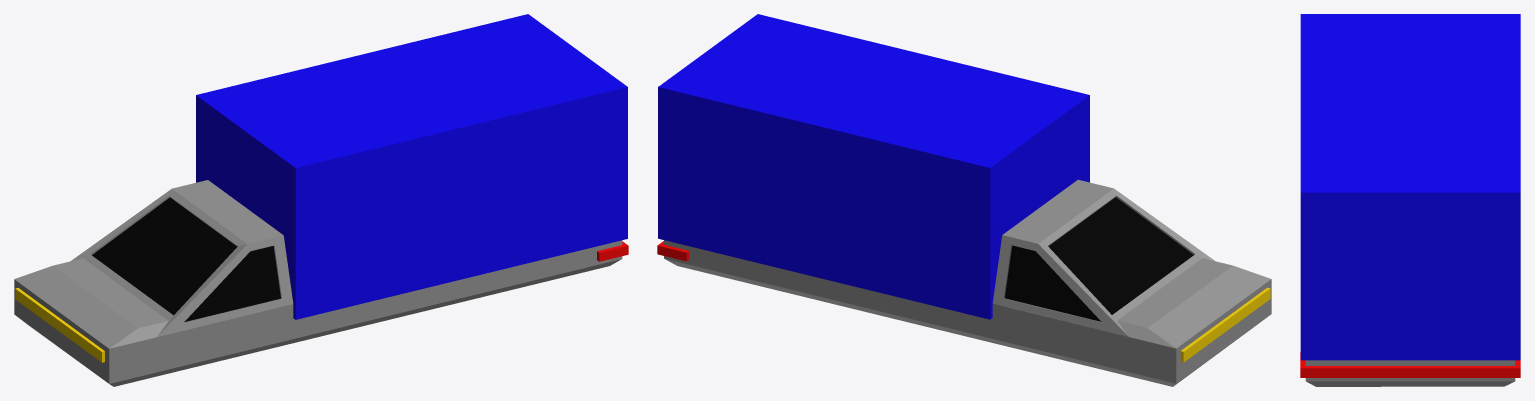
Rendered from Van.FBX.
The picture shows the model from 3 angles, left to right: view 1: azimuth 30°, elevation 25°; view 2: azimuth 150°, elevation 25°; view 3: azimuth 270°, elevation 25°; orthographic projection. The views are drawn at different scales.
Visible parts, largest first — view 1: CopCar; view 2: CopCar; view 3: CopCar.
Boxes of the visible parts, bbox=[...] form: CopCar: bbox=[14, 14, 628, 386]; CopCar: bbox=[657, 14, 1271, 386]; CopCar: bbox=[1300, 14, 1520, 386].
Size of the model in its own units: 305 by 102 by 101.
